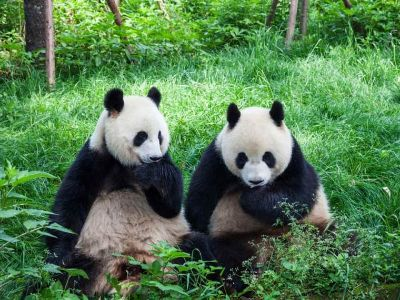bear: (43, 85, 185, 281), (189, 100, 329, 266)
